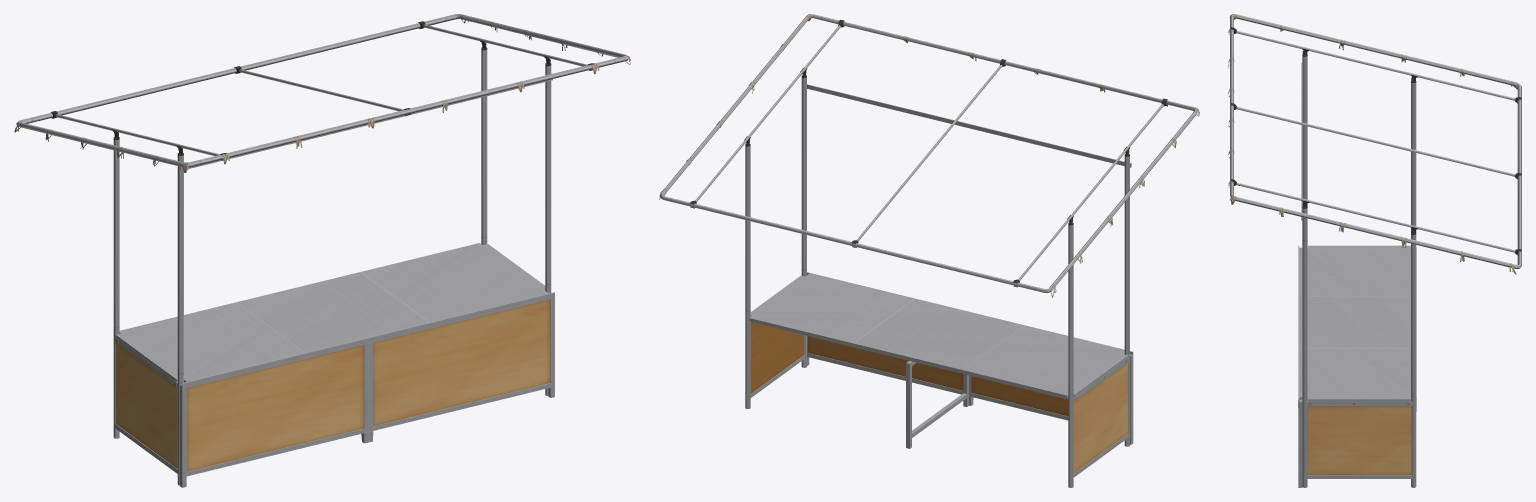
File: jsf_4P_s03_c05_t01.fbx
3 renders of one model, left to right at view 1: azimuth 30°, elevation 25°; view 2: azimuth 150°, elevation 25°; view 3: azimuth 270°, elevation 25°, orthographic. The views are drawn at different scales.
Parts seen in each view (by area): view 1: Base_s03_c05, Table_4P_s03_t01, Pillar4_s03, Rope_4P_s03; view 2: Table_4P_s03_t01, Pillar4_s03, Base_s03_c05, Support; view 3: Table_4P_s03_t01, Pillar4_s03, Base_s03_c05, Rope_4P_s03.
Boxes of the visible parts, x1=… form: Base_s03_c05: x1=114, y1=292, x2=554, y2=487; Table_4P_s03_t01: x1=115, y1=243, x2=548, y2=386; Pillar4_s03: x1=16, y1=14, x2=628, y2=485; Rope_4P_s03: x1=14, y1=14, x2=630, y2=172; Table_4P_s03_t01: x1=749, y1=273, x2=1128, y2=400; Pillar4_s03: x1=659, y1=14, x2=1198, y2=487; Base_s03_c05: x1=750, y1=272, x2=1133, y2=477; Support: x1=906, y1=361, x2=968, y2=448; Table_4P_s03_t01: x1=1299, y1=245, x2=1416, y2=405; Pillar4_s03: x1=1230, y1=14, x2=1521, y2=487; Base_s03_c05: x1=1298, y1=245, x2=1412, y2=487; Rope_4P_s03: x1=1228, y1=14, x2=1517, y2=274.
Size of the model in its own units: 316 by 243 by 211.
